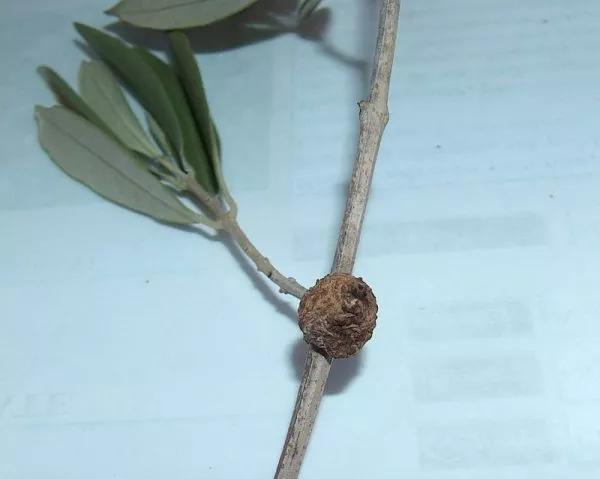Tuberculosis: (294, 268, 382, 362)
